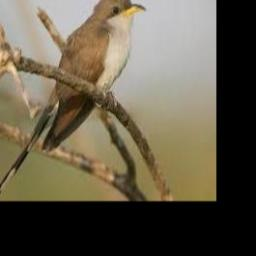Cuckoo: (0, 0, 146, 197)
